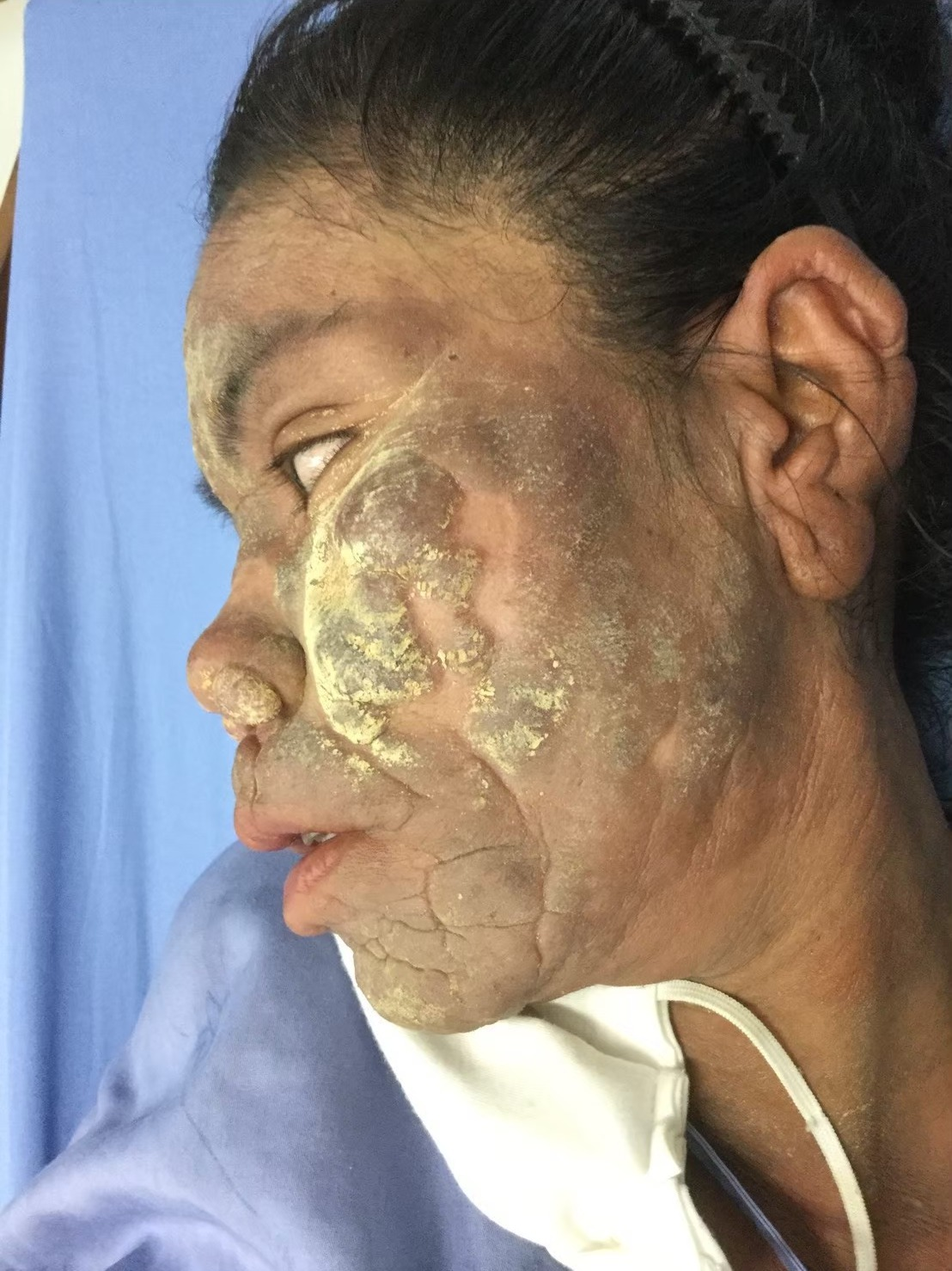Leprosy: (725, 225, 919, 605)
